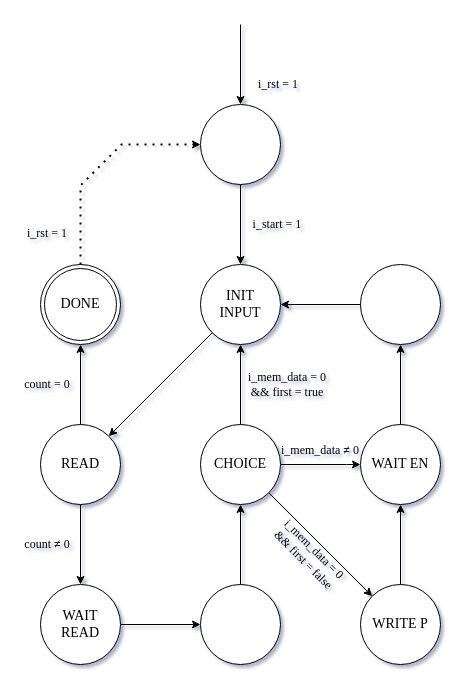
This 464x688 diagram has some shape labels left out. The centre of each missing label's shape, as x and y in pixels:
"INIT" belongs at point 240,144.
"WAIT READ 2" belongs at point 240,624.
"WRITE C" belongs at point 400,304.
